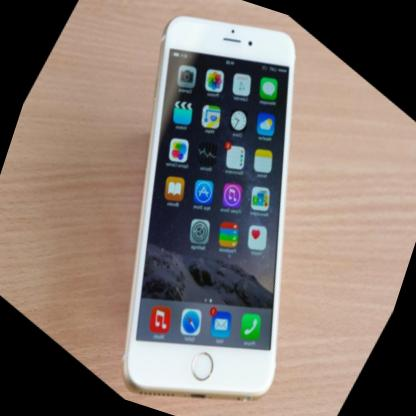phone good: (108, 14, 341, 394)
